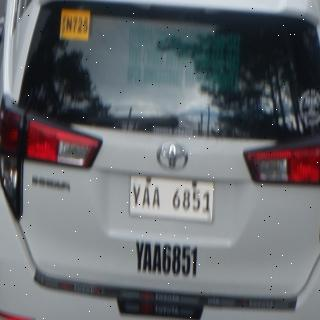license: (131, 176, 215, 224)
